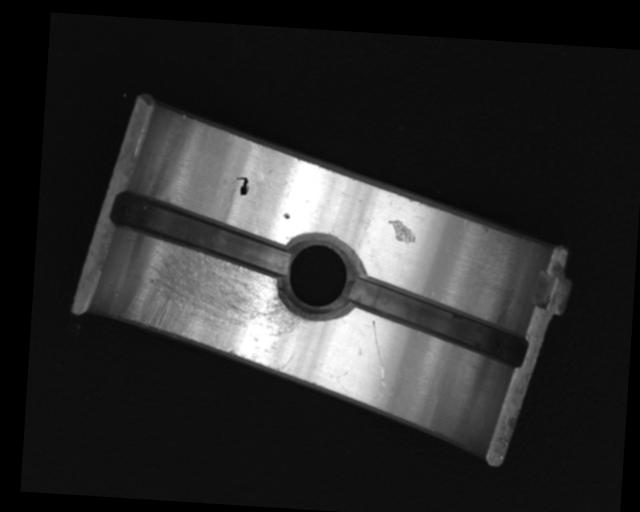blot: (233, 175, 250, 196)
bruise: (386, 218, 418, 247), (282, 212, 290, 219)
gap: (346, 273, 528, 366), (108, 190, 295, 274)
hole: (275, 231, 365, 320)
nick: (368, 319, 389, 386)
scratch: (118, 231, 305, 372)
